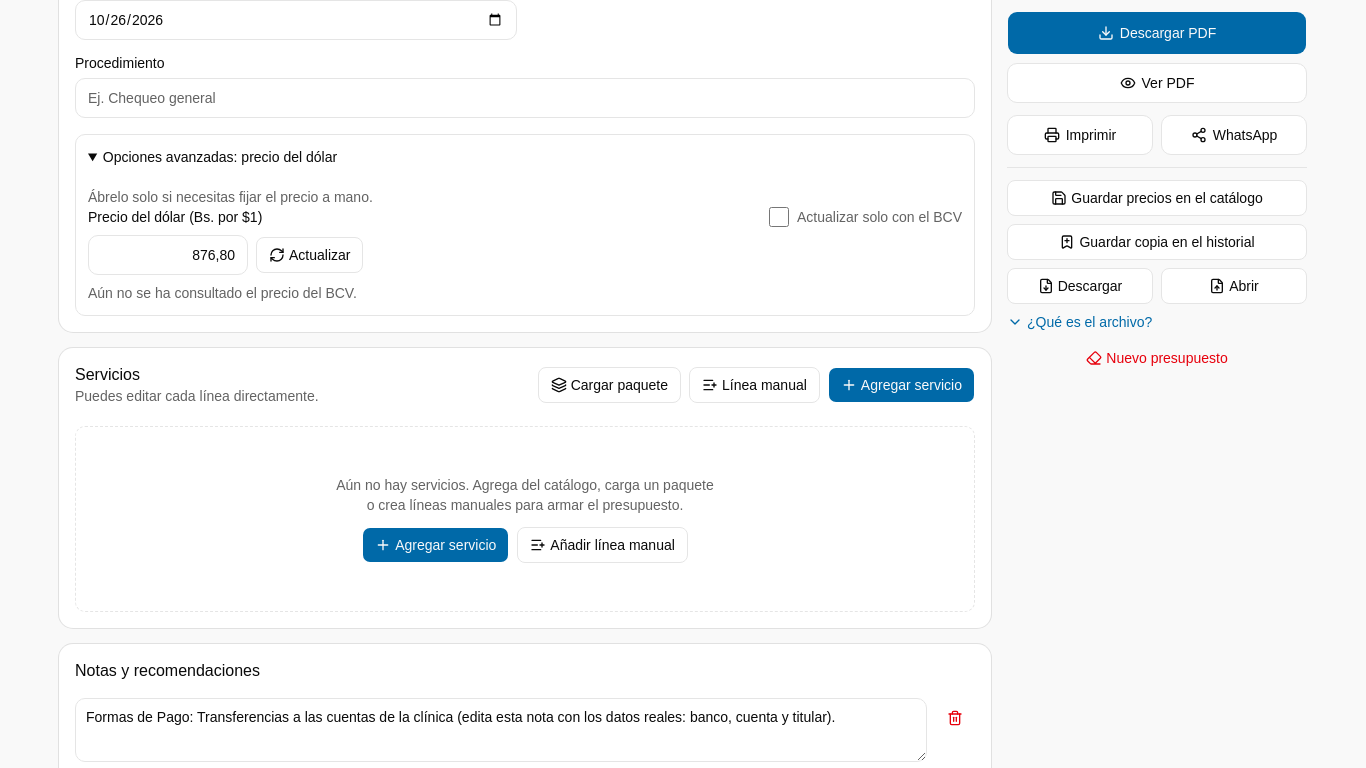
Test: App · interacciones › filtra el catálogo por área al agregar servicios
(page scrolled)
Click the button "Agregar servicio" in the row of "Puedes editar cada línea directamente.". click: (901, 384)
box: 828,366 -> 975,402
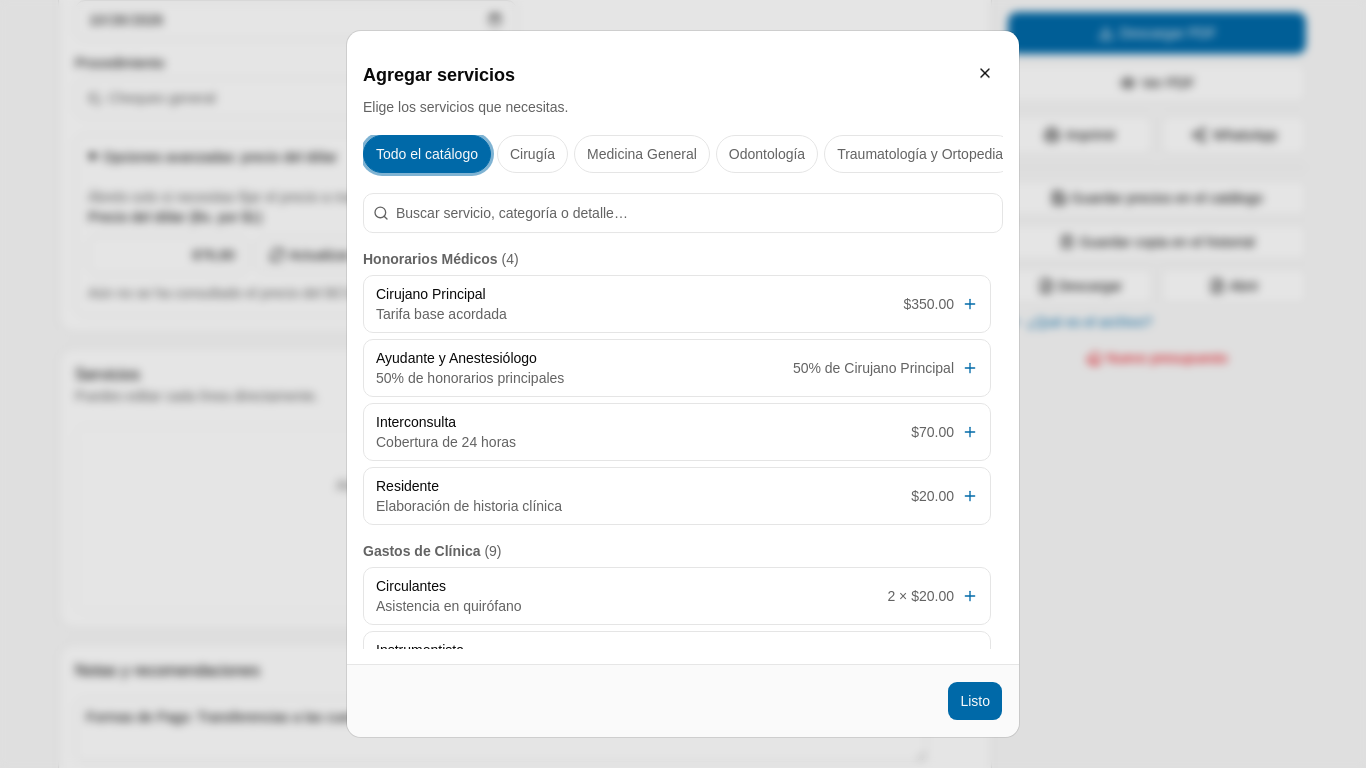
Expected: the text "Cirujano Principal" is shown, 376,286 -> 486,302
Click the button "Odontología". click: (767, 154)
box: 716,135 -> 818,173
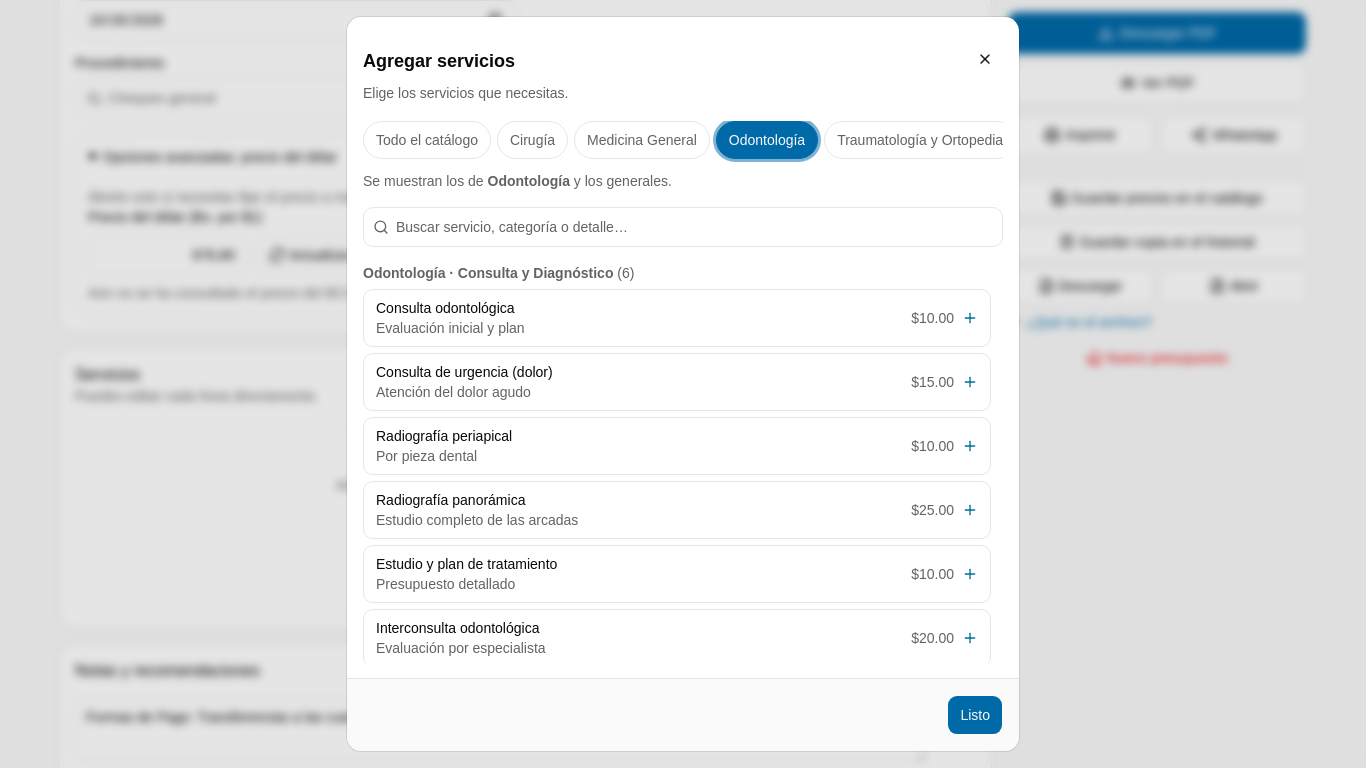
Expected: the button "Cirujano Principal" is gone
Click the button "Todo el catálogo". click: (427, 140)
box: 363,121 -> 491,159
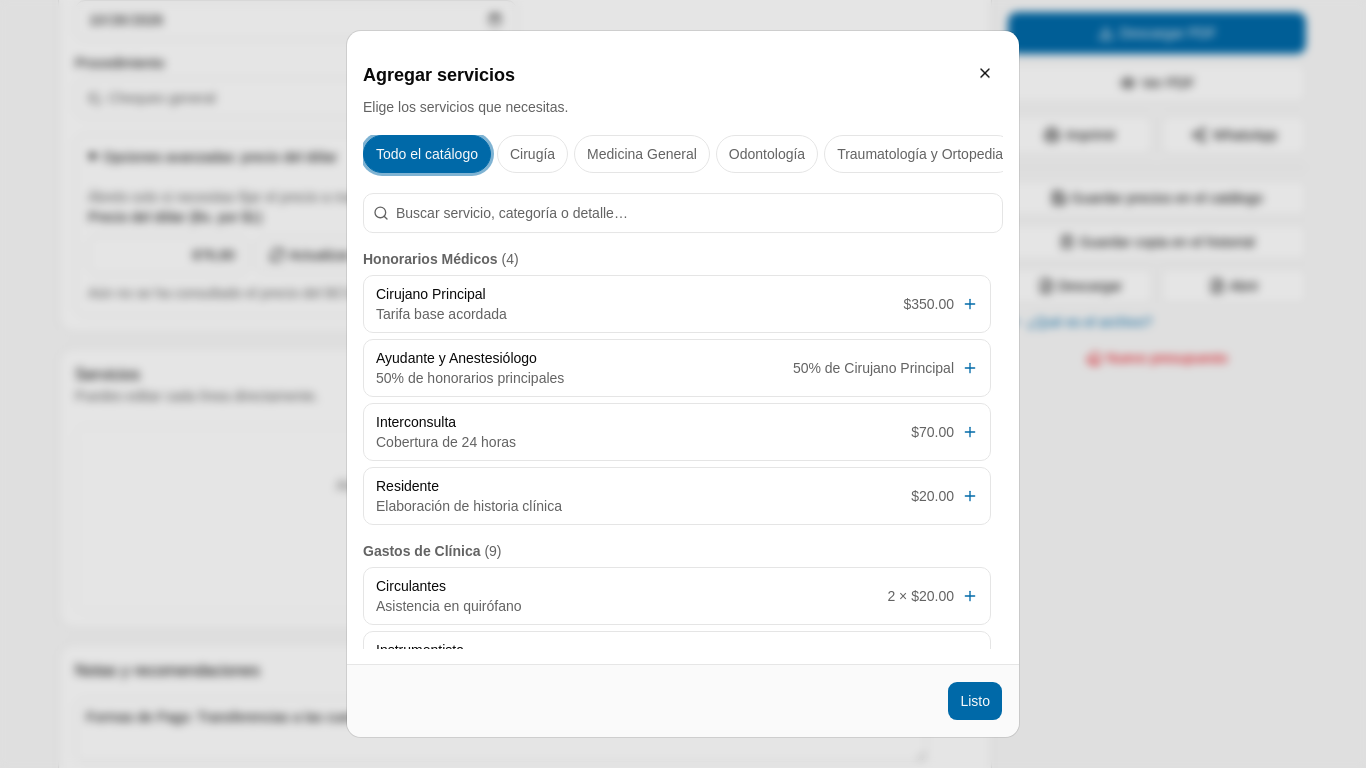
Expected: the text "Cirujano Principal" is shown, 376,286 -> 486,302
